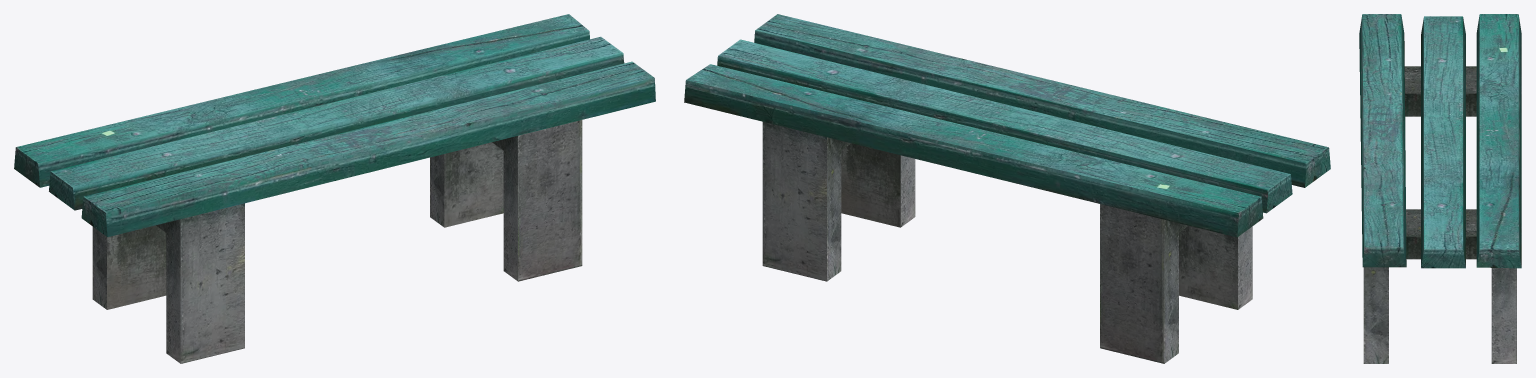
File: bench_bench1_bench1.glb
The picture shows the model from 3 angles, left to right: view 1: azimuth 30°, elevation 25°; view 2: azimuth 150°, elevation 25°; view 3: azimuth 270°, elevation 25°; orthographic projection. The views are drawn at different scales.
Visible parts, largest first — view 1: bench1_bench1_0; view 2: bench1_bench1_0; view 3: bench1_bench1_0.
Part boxes in pixels (<box>): bench1_bench1_0: <box>14,14,655,363</box>; bench1_bench1_0: <box>684,14,1330,363</box>; bench1_bench1_0: <box>1359,14,1521,363</box>.
Bounding box in the file's own units: 151 × 44.2 × 44.07.
1 material, 1 textured.
